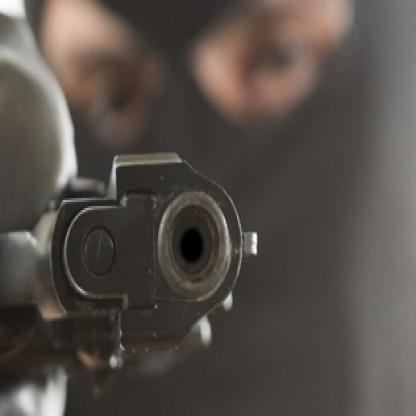gun: (0, 127, 281, 415)
